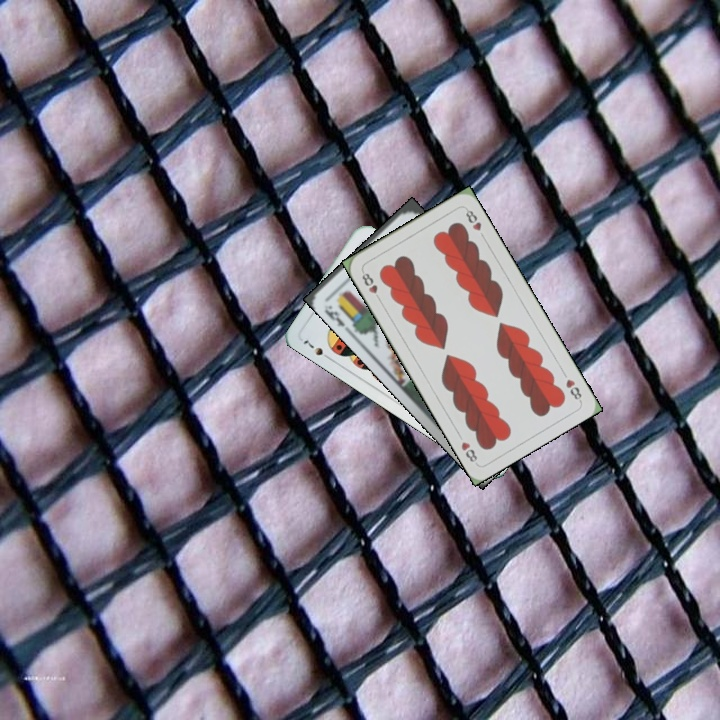EK: (320, 305, 347, 329)
H8: (358, 267, 384, 304), (561, 375, 584, 404)
S7: (299, 334, 334, 363)
